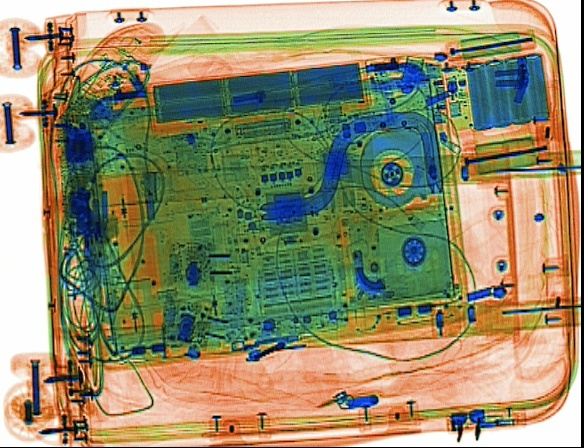powerbank: (441, 48, 552, 133)
